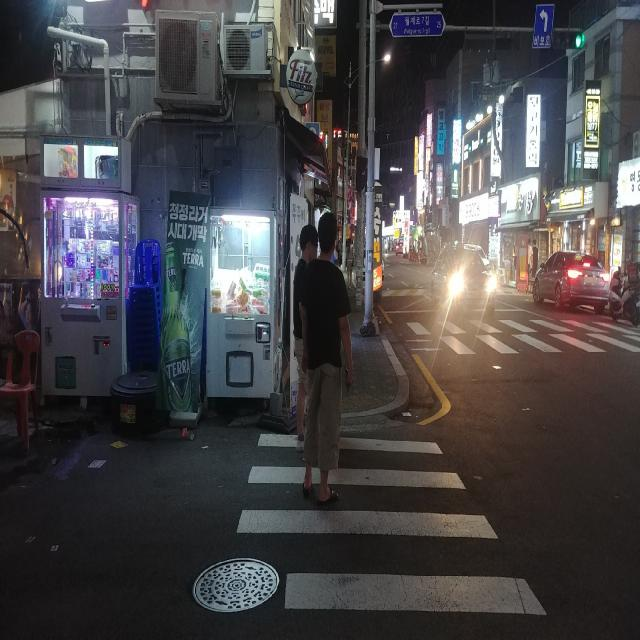횡단보도: (236, 433, 547, 616), (400, 306, 640, 366)
